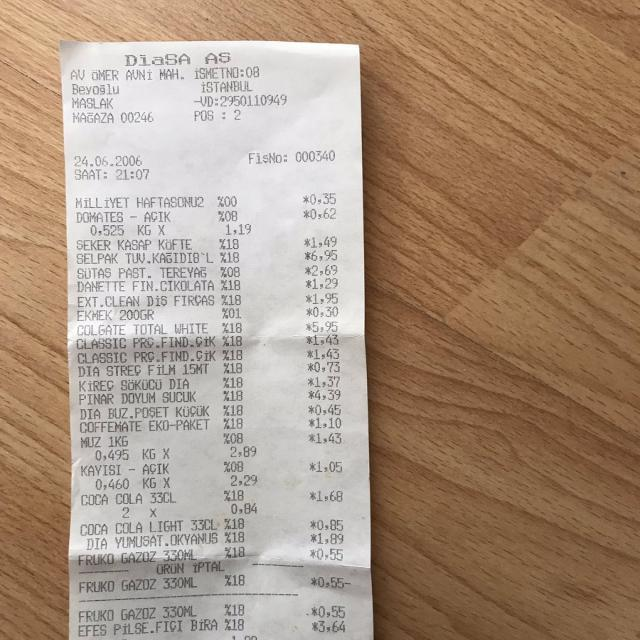Plastic: (67, 42, 378, 639)
